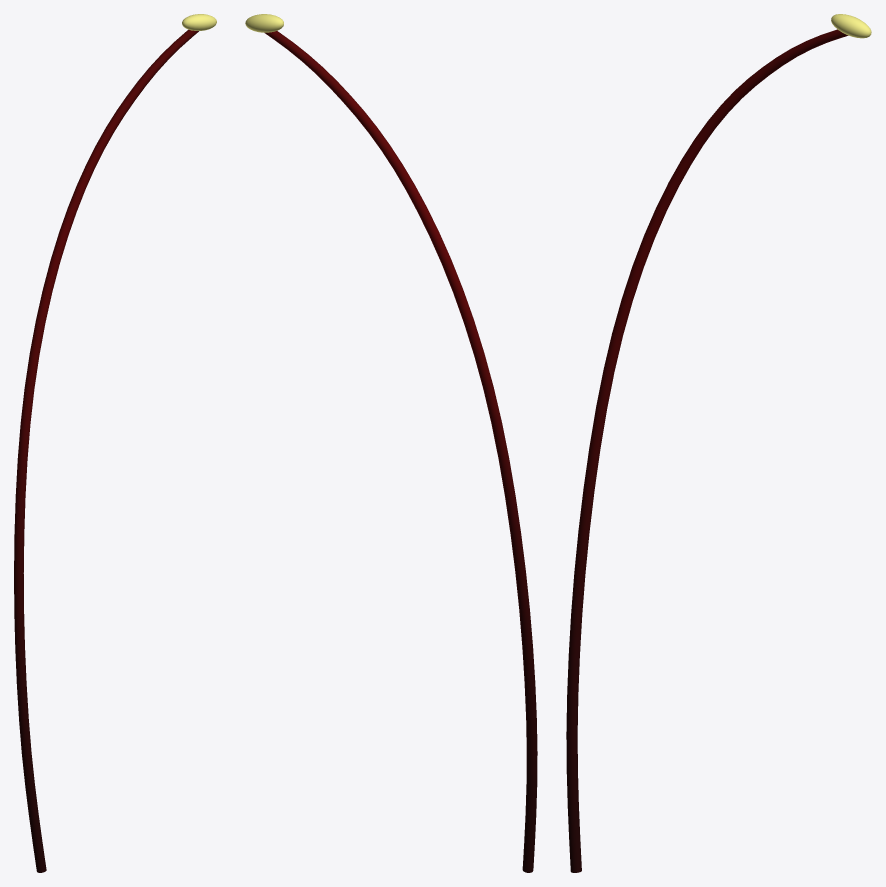
The model's file is avkan2.fbx.
3 renders of one model, left to right at view 1: azimuth 30°, elevation 25°; view 2: azimuth 150°, elevation 25°; view 3: azimuth 330°, elevation 25°, orthographic. The views are drawn at different scales.
Parts seen in each view (by area): view 1: cgaxis_models_26_11_01_2; view 2: cgaxis_models_26_11_01_2; view 3: cgaxis_models_26_11_01_2.
Part boxes in pixels (x1,y1,x2,y2): cgaxis_models_26_11_01_2: (14, 14, 216, 872); cgaxis_models_26_11_01_2: (245, 14, 537, 872); cgaxis_models_26_11_01_2: (566, 14, 871, 872).
Size of the model in its own units: 0.9208 by 2.93 by 0.3436.
1 material, 1 textured.
